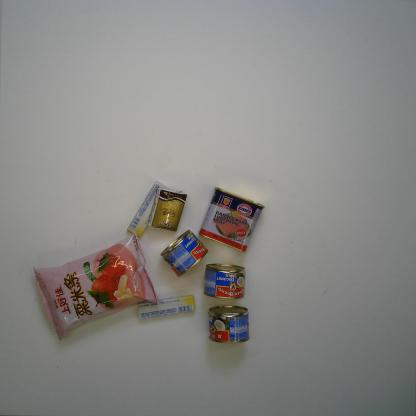Candy: (127, 182, 169, 238), (137, 295, 195, 320)
Canned Food: (198, 186, 266, 253), (159, 228, 209, 277), (208, 305, 250, 344), (203, 263, 246, 300)
Puffed Food: (32, 230, 160, 342)
Tissue: (148, 188, 188, 232)
